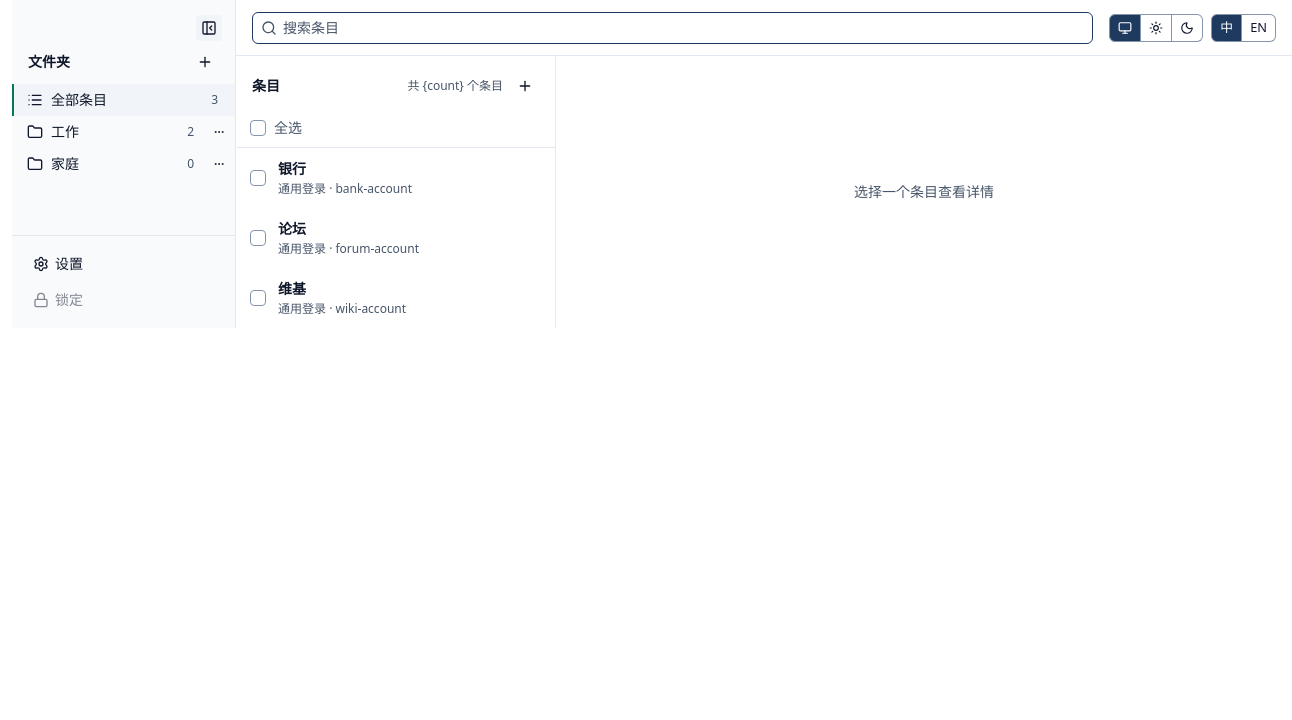
Test case: 拖放时的入口与失败 › 在文件夹入口里把选中的条目拖走, 入口不动, 条目从列表消失并选中相邻条目
Click the button "工作 2".
click(110, 132)  # box 14,116 -> 207,148
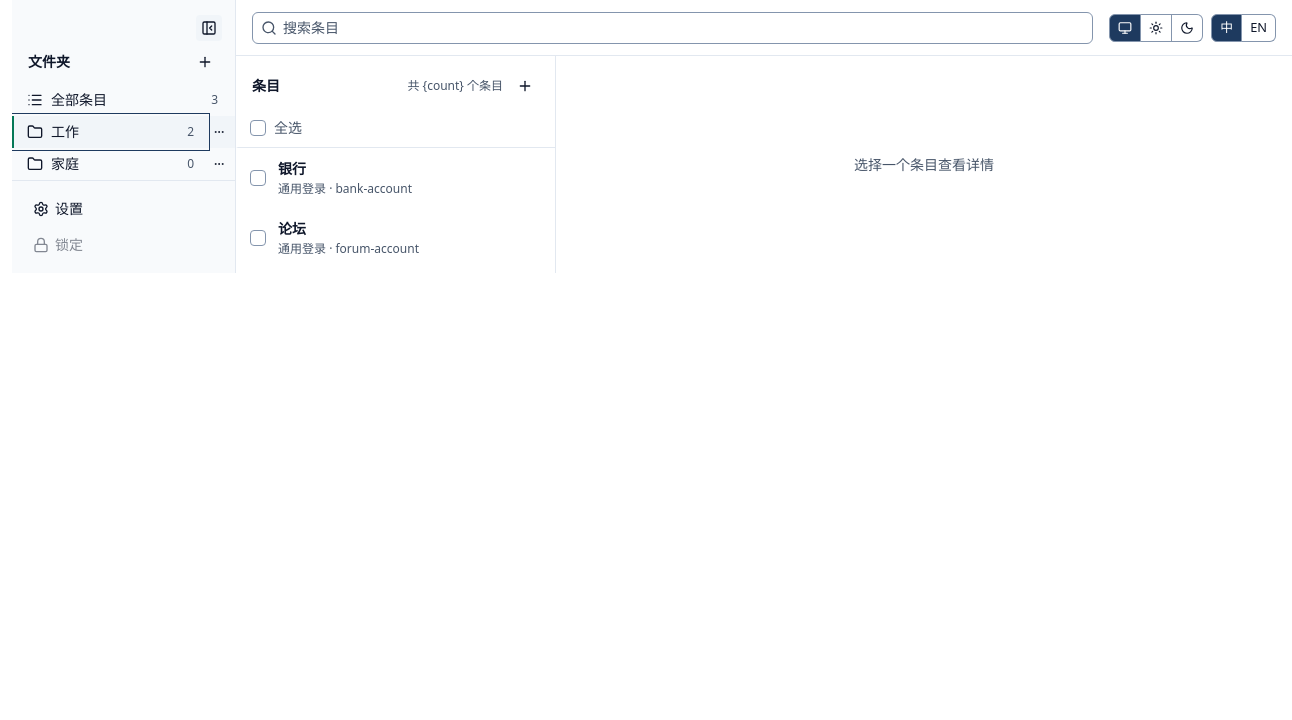
Click the button "论坛 通用登录 · forum-account".
click(412, 238)  # box 270,208 -> 555,268
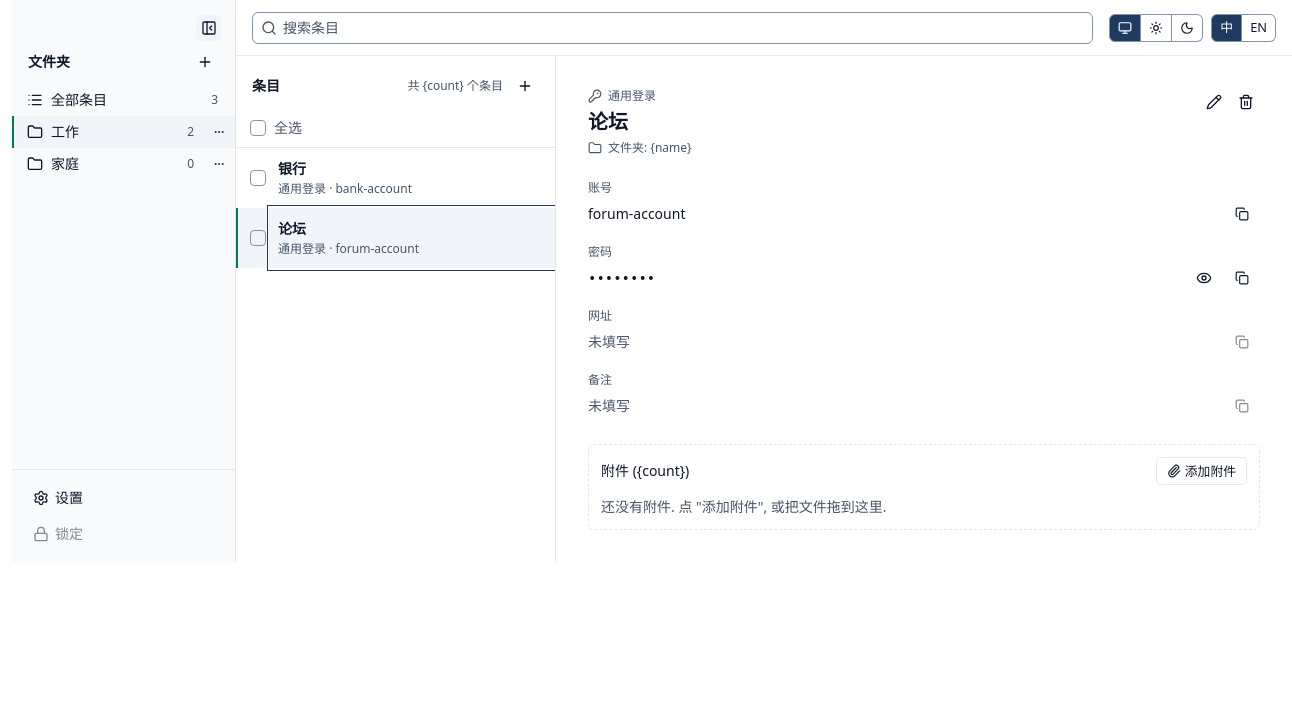
Result: the heading "论坛" is shown at 588,108 -> 628,135
Type keys "m"
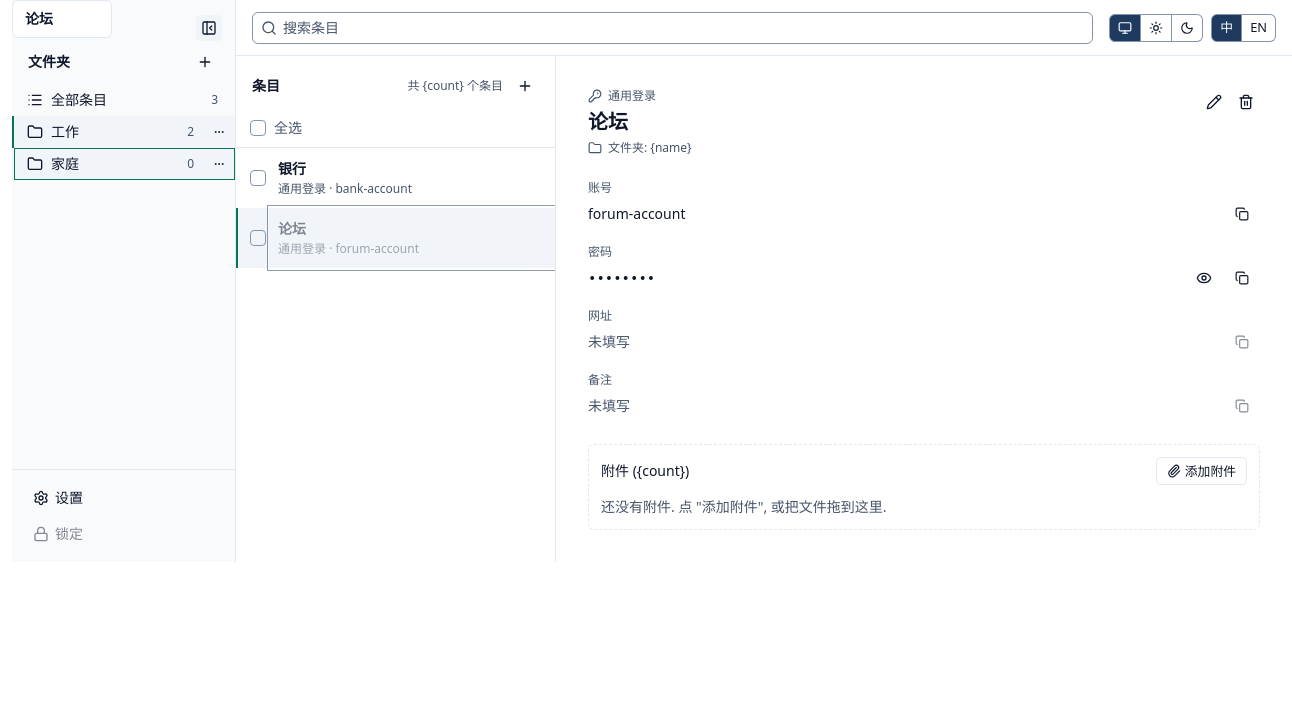
Press Enter
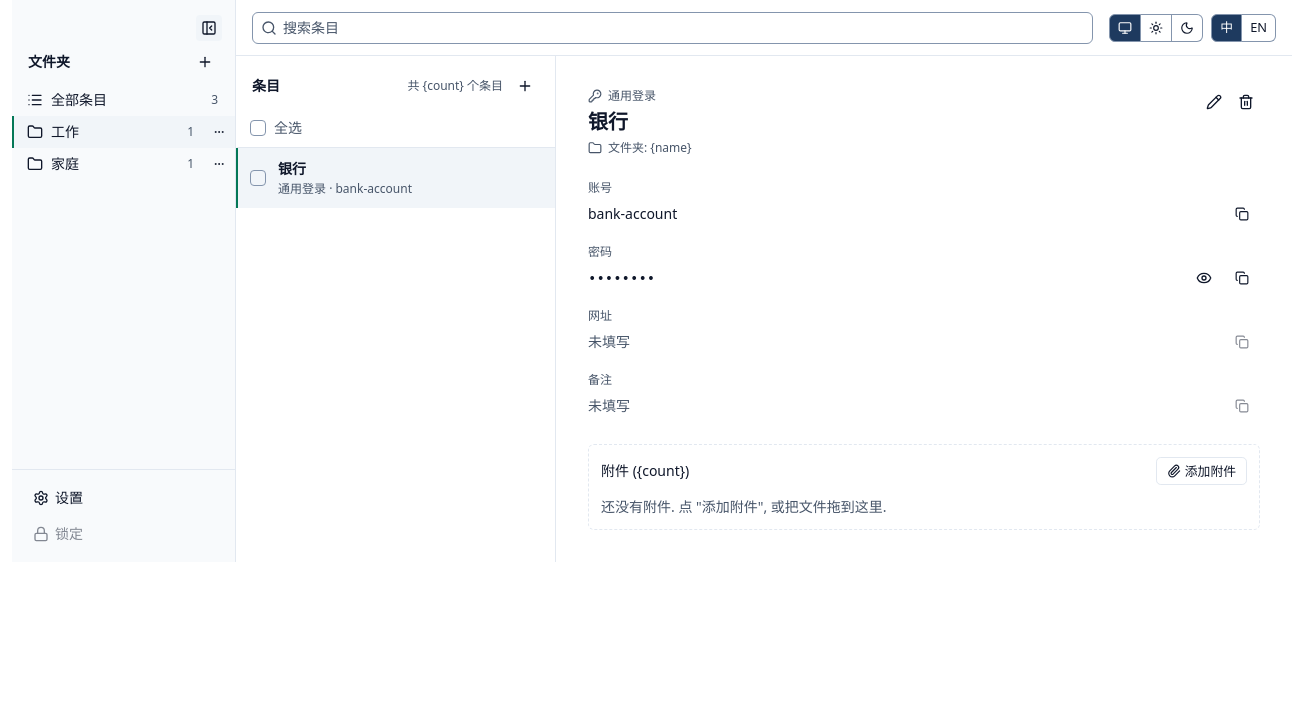
Result: the heading "银行" is shown at 588,108 -> 628,135
